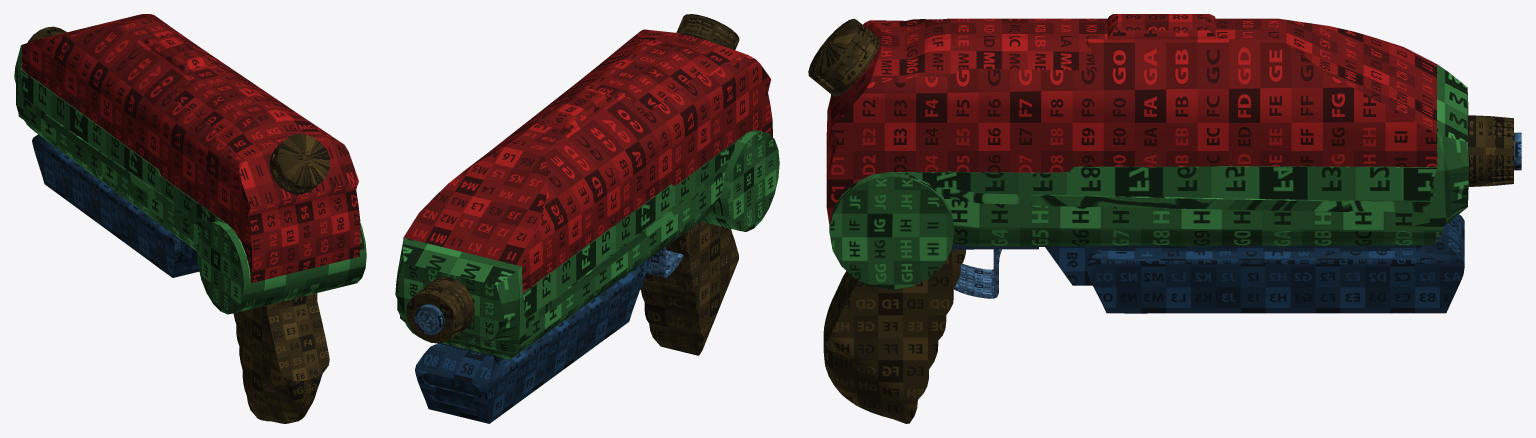
The model's file is shoot me.fbx.
3 renders of one model, left to right at view 1: azimuth 30°, elevation 25°; view 2: azimuth 150°, elevation 25°; view 3: azimuth 270°, elevation 25°, orthographic. The views are drawn at different scales.
Visible parts, largest first — view 1: gunTop, gunBottom, gunGrip, gunBack, gunSlide, gunCap, gunReloadTrack; view 2: gunTop, gunBottom, gunSlide, gunGrip, gunBack, gunBarrel_Big, gunCap, gunBarrel_Small, gunTrigger; view 3: gunTop, gunBottom, gunSlide, gunGrip, gunBack, gunReloadTrack, gunCap, gunBarrel_Big, gunTrigger.
Boxes of the visible parts, x1,y1,x2,y2 form: gunTop: (21,14,360,282); gunBottom: (14,45,225,250); gunGrip: (233,293,329,423); gunBack: (196,221,366,314); gunSlide: (32,134,199,277); gunCap: (269,134,329,194); gunReloadTrack: (179,240,197,266); gunTop: (403,29,772,292); gunBottom: (395,135,744,359); gunSlide: (415,268,642,423); gunGrip: (641,221,738,355); gunBack: (701,130,779,231); gunBarrel_Big: (406,276,474,343); gunCap: (676,14,739,49); gunBarrel_Small: (414,304,444,335); gunTrigger: (646,246,683,277); gunTop: (826,14,1437,226); gunBottom: (897,64,1468,246); gunSlide: (1087,214,1464,313); gunGrip: (823,249,965,423); gunBack: (829,171,954,289); gunReloadTrack: (951,244,1421,285); gunCap: (808,18,879,96); gunBarrel_Big: (1467,115,1513,186); gunTrigger: (953,249,1001,298).
Bounding box in the file's own units: 1.23 × 2.88 × 4.68.
5 materials, 5 textured.
